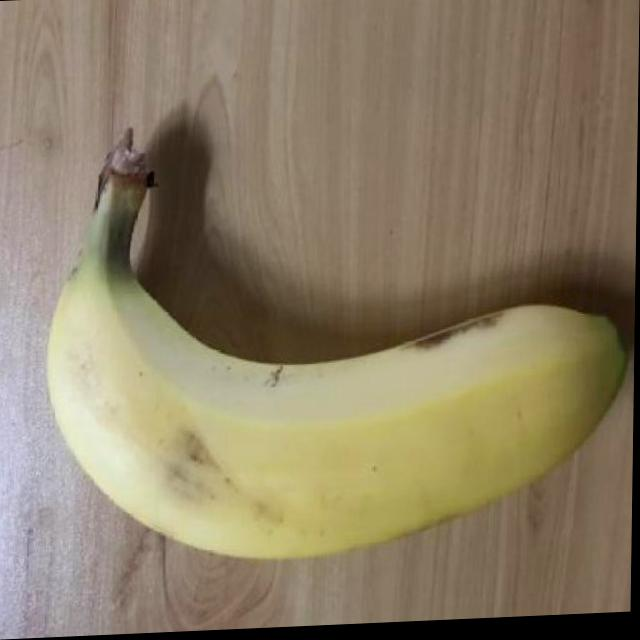banana: (38, 107, 633, 594)
